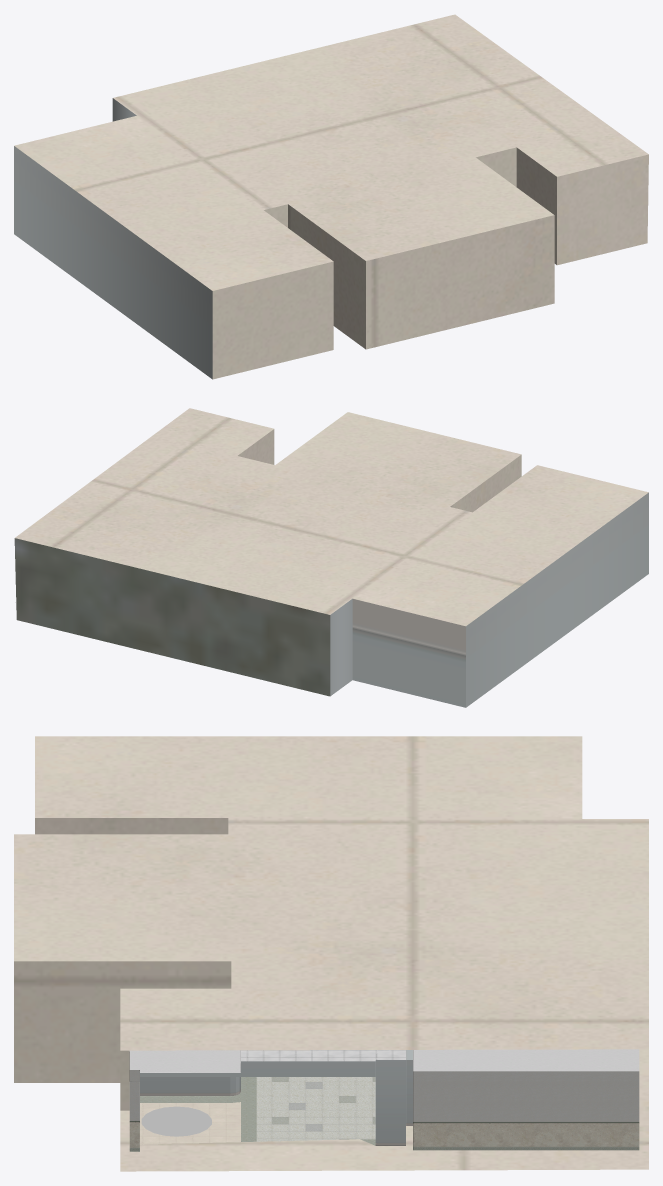
Rendered from env_traumaShell03-Splash.FBX.
3 views of the same model, one above another, from view 1: azimuth 30°, elevation 25°; view 2: azimuth 150°, elevation 25°; view 3: azimuth 270°, elevation 25° (orthographic). The views are drawn at different scales.
Parts seen in each view (by area): view 1: trauma; view 2: trauma; view 3: trauma.
Part boxes in pixels (x1,y1,x2,y2): trauma: (14,14,648,379); trauma: (14,408,648,707); trauma: (14,736,648,1171).
Bounding box in the file's own units: 24.06 × 4.33 × 20.46.
